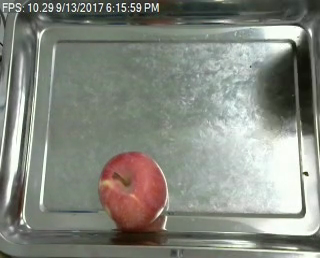Apple: (97, 151, 167, 230)
